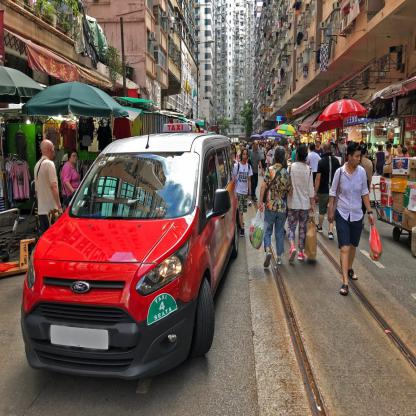taxi: (21, 121, 244, 384)
